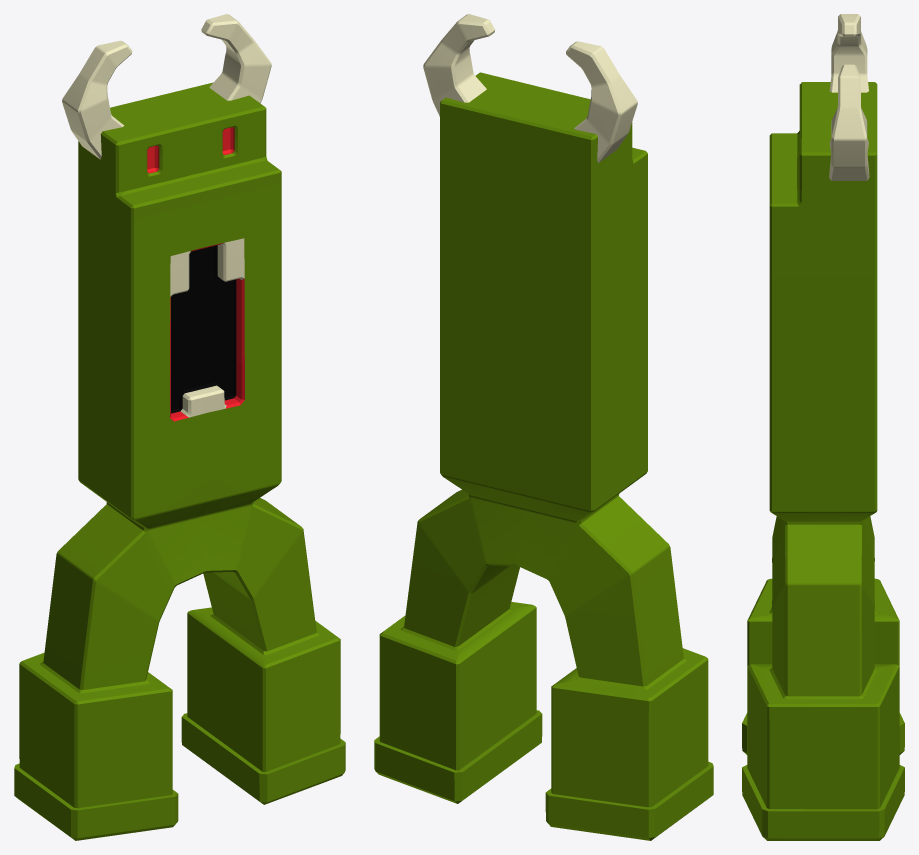
The model's file is MonsterBody.obj.
The picture shows the model from 3 angles, left to right: view 1: azimuth 30°, elevation 25°; view 2: azimuth 150°, elevation 25°; view 3: azimuth 270°, elevation 25°; orthographic projection. The views are drawn at different scales.
Visible parts, largest first — view 1: monsterbody; view 2: monsterbody; view 3: monsterbody.
Part boxes in pixels (left/top/right/bottom): monsterbody: left=14, top=14, right=345, bottom=840; monsterbody: left=374, top=14, right=713, bottom=840; monsterbody: left=742, top=14, right=904, bottom=840.
Bounding box in the file's own units: 3.16 × 8.2 × 1.65.
